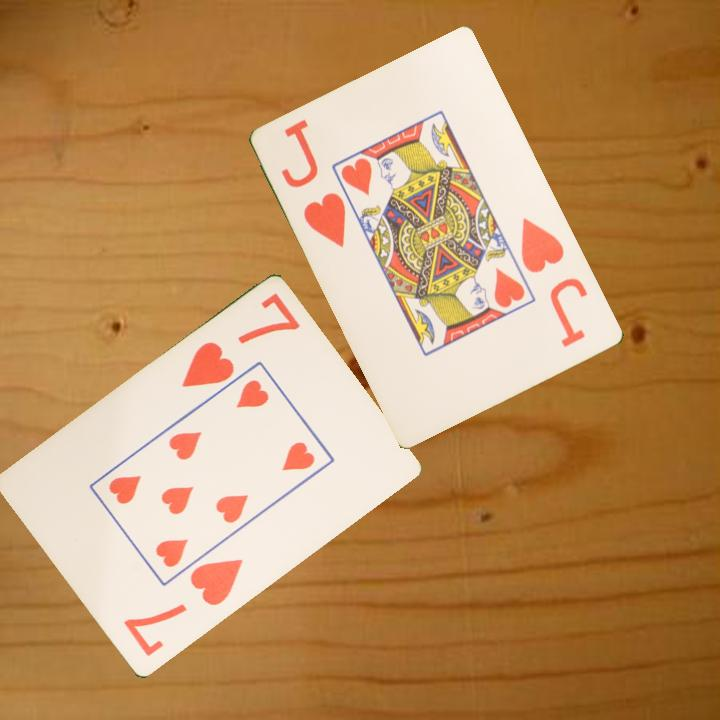7h: (120, 555, 246, 660), (178, 289, 303, 392)
Jh: (517, 214, 591, 351), (300, 189, 350, 251)
